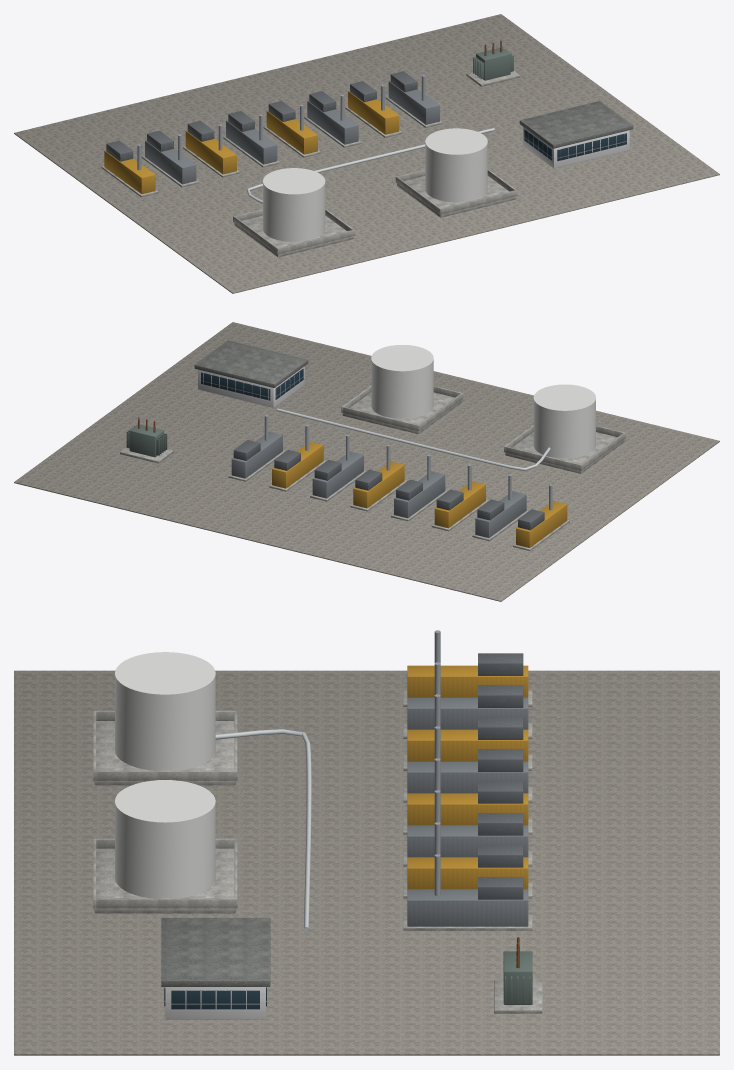
The model's file is diesel-power-station.glb.
The picture shows the model from 3 angles, top to bottom: view 1: azimuth 30°, elevation 25°; view 2: azimuth 150°, elevation 25°; view 3: azimuth 270°, elevation 25°; orthographic projection. The views are drawn at different scales.
Visible parts, largest first — view 1: Diesel_Power_Station; view 2: Diesel_Power_Station; view 3: Diesel_Power_Station.
Boxes of the visible parts, x1=… form: Diesel_Power_Station: x1=14, y1=14, x2=719, y2=293; Diesel_Power_Station: x1=14, y1=322, x2=719, y2=601; Diesel_Power_Station: x1=14, y1=630, x2=719, y2=1055.
Bounding box in the file's own units: 90 × 9.2 × 70.
Materials: 13 (8 with a texture image).
